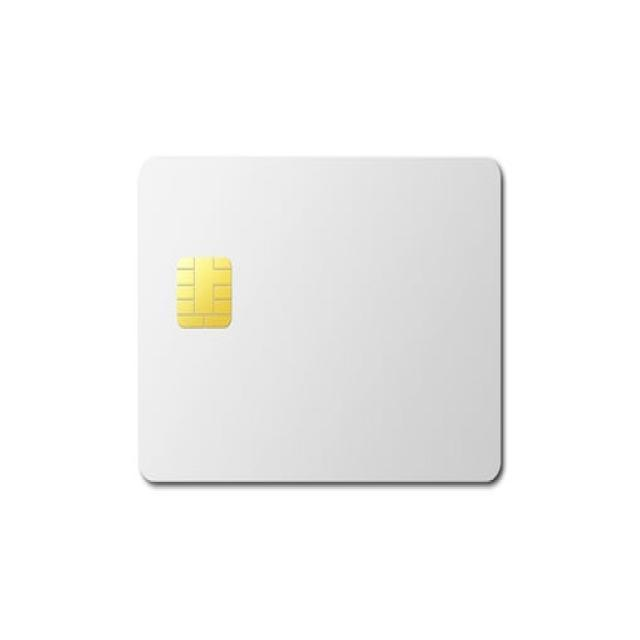payment_card: (136, 154, 504, 485)
